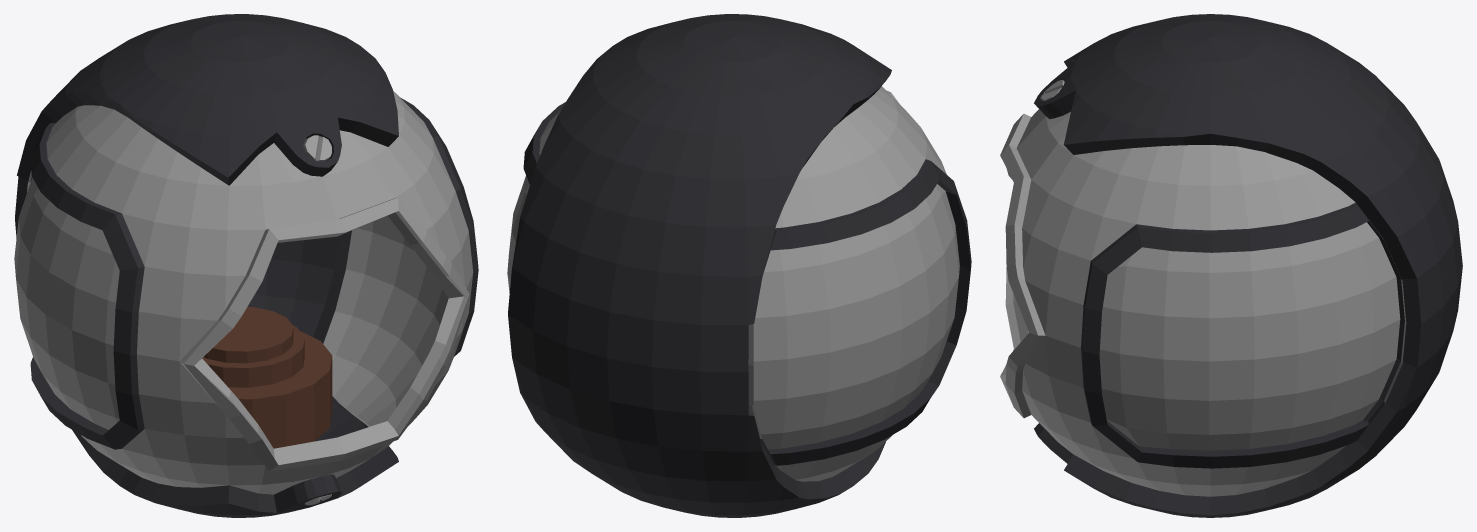
The model's file is enemy2.fbx.
3 renders of one model, left to right at view 1: azimuth 30°, elevation 25°; view 2: azimuth 150°, elevation 25°; view 3: azimuth 270°, elevation 25°, orthographic.
Parts seen in each view (by area): view 1: outer edge, door; view 2: outer edge; view 3: outer edge.
Part boxes in pixels (left/top/right/bottom): outer edge: left=14, top=14, right=478, bottom=517; door: left=237, top=143, right=351, bottom=343; outer edge: left=507, top=14, right=971, bottom=517; outer edge: left=1000, top=14, right=1462, bottom=517.
Bounding box in the file's own units: 487 × 544 × 499.
